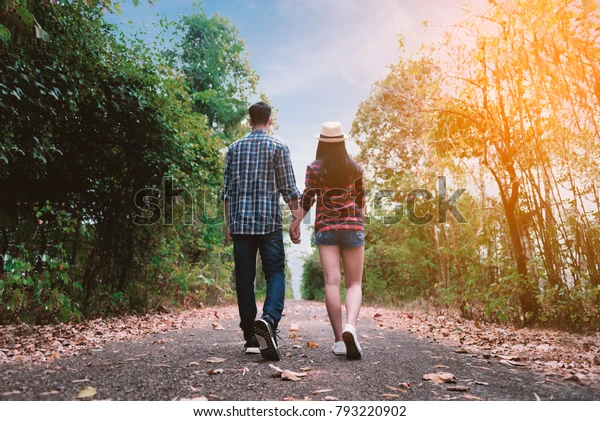person: (219, 99, 298, 365), (295, 118, 375, 358)
